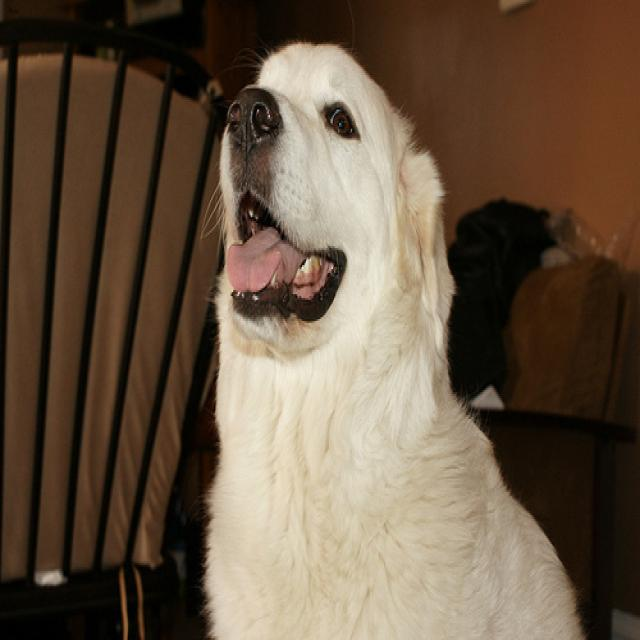dog-great_pyrenees: (180, 27, 590, 636)
